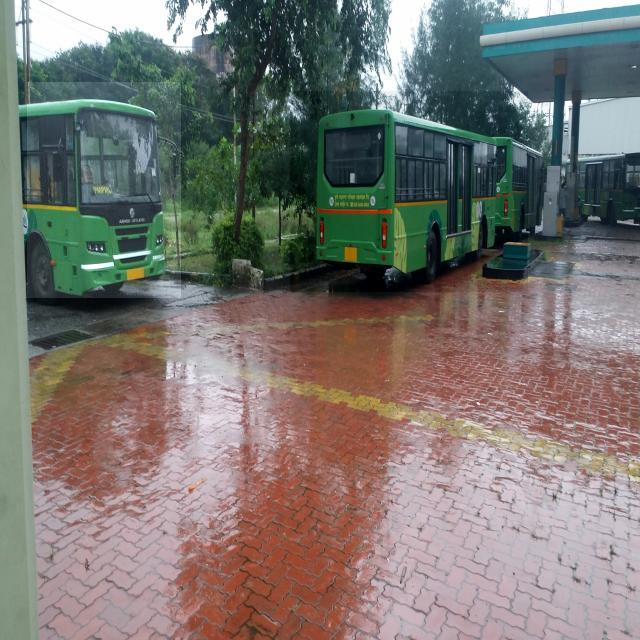Bus: (290, 91, 528, 292), (27, 82, 182, 298)
